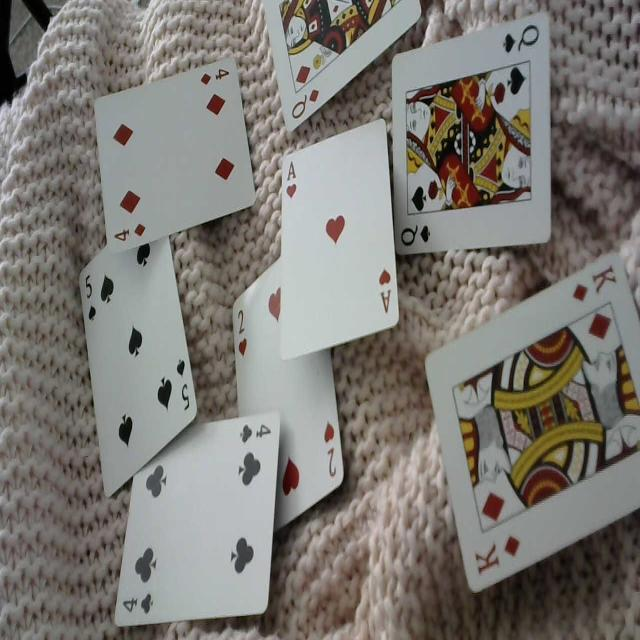2H: (322, 415, 339, 479), (235, 305, 249, 361)
4C: (238, 418, 274, 452), (122, 593, 156, 619)
4D: (110, 220, 148, 247), (198, 60, 232, 90)
5S: (82, 269, 99, 327), (175, 356, 191, 414)
AH: (374, 264, 394, 317), (284, 156, 298, 199)
KD: (472, 532, 522, 577), (571, 257, 619, 303)
QD: (290, 86, 320, 125)
QS: (501, 19, 541, 65), (399, 220, 435, 250)
